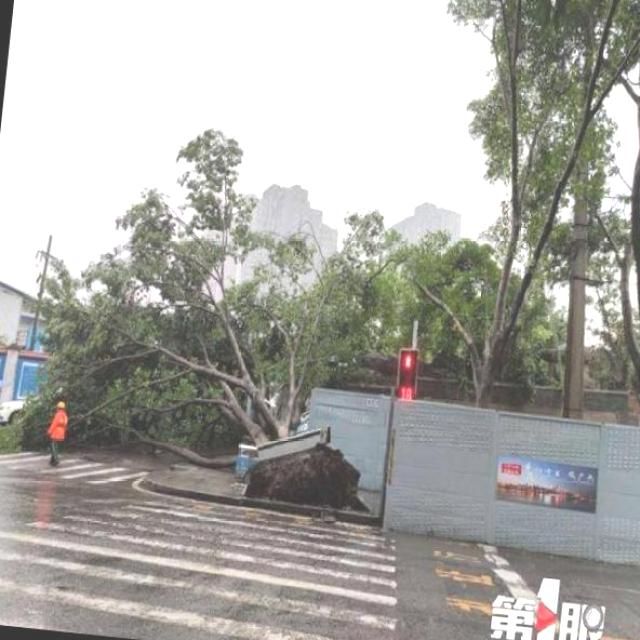fallen_object: (0, 105, 389, 507)
